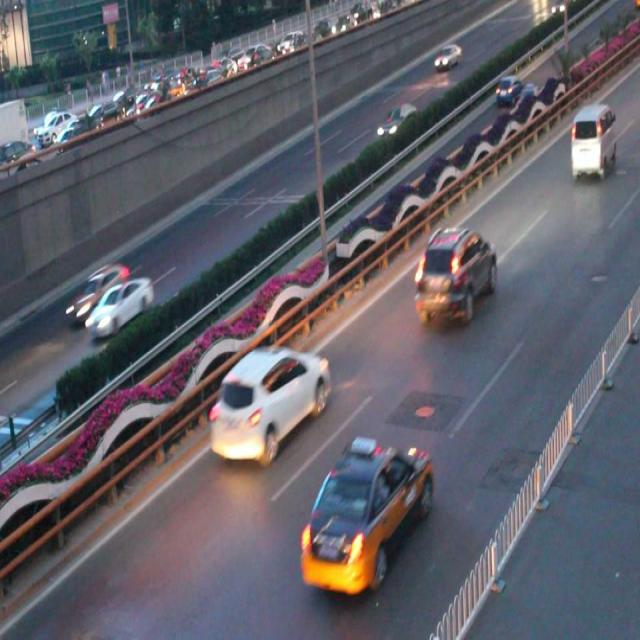car: (300, 434, 430, 594), (211, 346, 330, 460), (414, 222, 497, 326), (64, 263, 129, 324), (87, 280, 153, 333), (374, 102, 416, 140)
truck: (568, 106, 618, 182)
